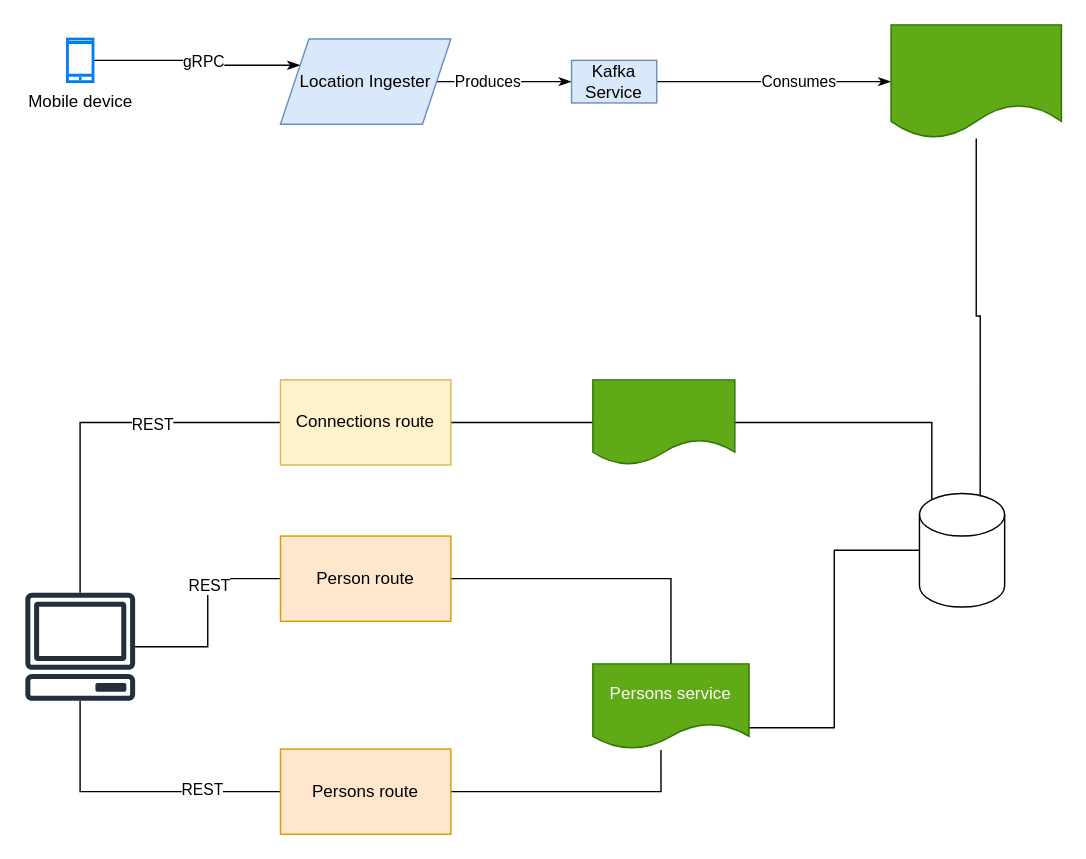
The diagram is 1086 pixels wide and 859 high, and some of its shapes have lost their labels. Each missing label, with the centre of its shape:
"Connections service" belongs at point (663, 421).
"Database" belongs at point (961, 549).
"Front Desk Client" belongs at point (79, 646).
"Location Processor" belongs at point (975, 80).
